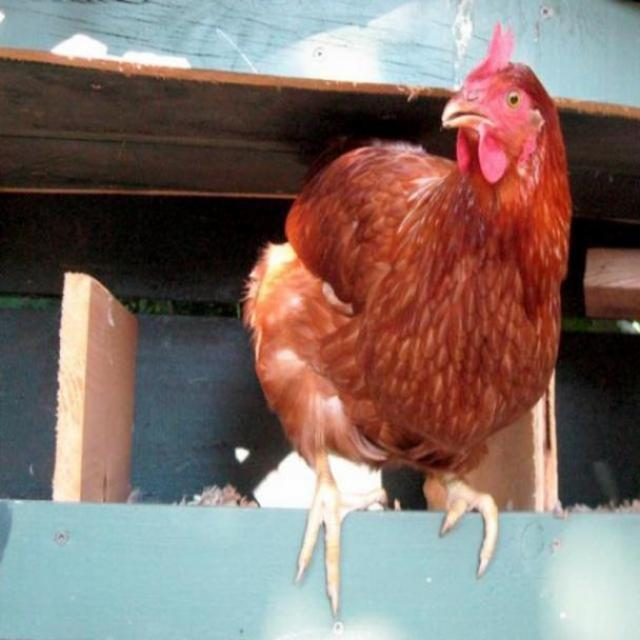Chicken: (235, 20, 573, 613)
